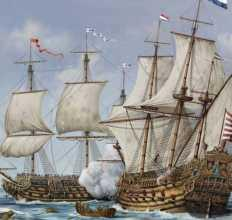fanchuan: (115, 1, 232, 214), (1, 19, 135, 204)
